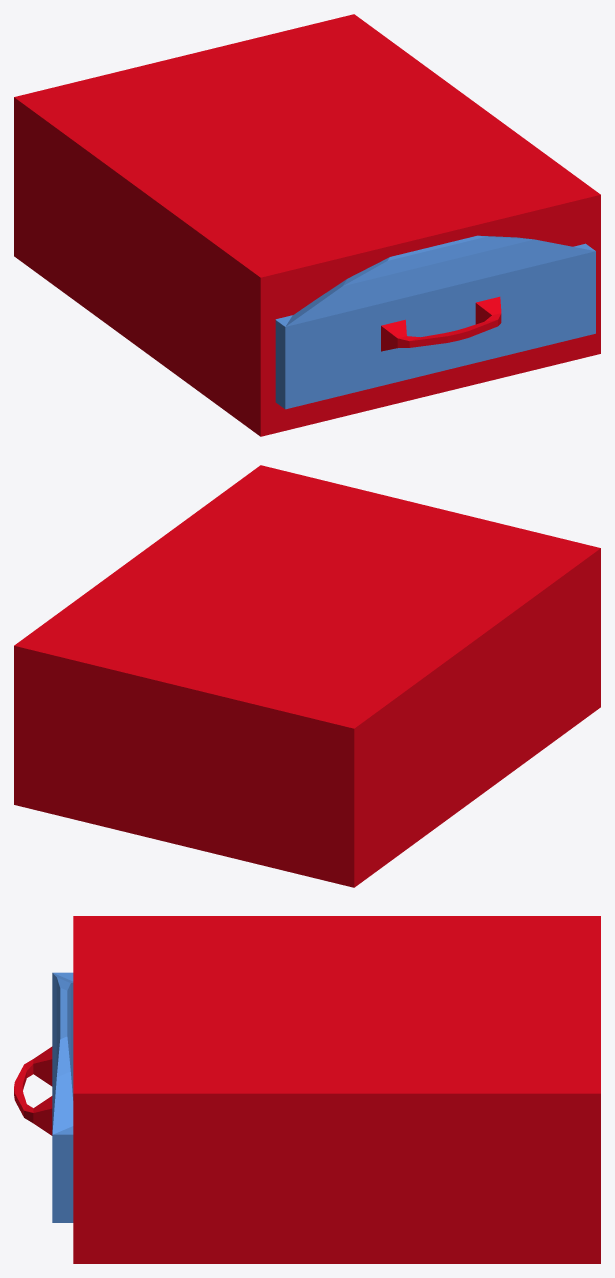
Rendered from DarakFBX.fbx.
3 renders of one model, top to bottom at view 1: azimuth 30°, elevation 25°; view 2: azimuth 150°, elevation 25°; view 3: azimuth 270°, elevation 25°, orthographic. The views are drawn at different scales.
Visible parts, largest first — view 1: OpshiDarak, Daraki_Marmin; view 2: OpshiDarak; view 3: OpshiDarak, Daraki_Marmin.
Boxes of the visible parts, x1,y1,x2,y2 form: OpshiDarak: (14,14,600,436); Daraki_Marmin: (275,235,595,409); OpshiDarak: (14,465,600,887); OpshiDarak: (73,916,600,1263); Daraki_Marmin: (14,972,73,1222).
Size of the model in its own units: 219 by 97.89 by 306.
